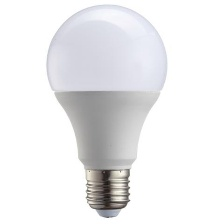light_bulb: (44, 3, 170, 223)
